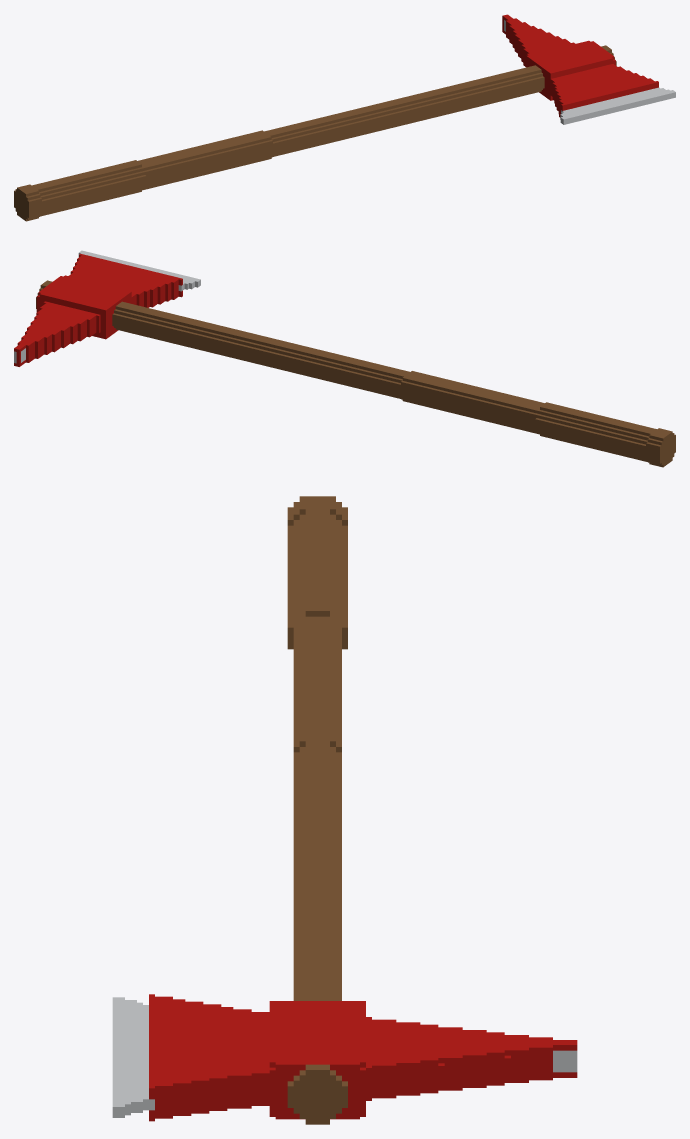
The model's file is fire_ax.glb.
3 views of the same model, one above another, from view 1: azimuth 30°, elevation 25°; view 2: azimuth 150°, elevation 25°; view 3: azimuth 270°, elevation 25° (orthographic). The views are drawn at different scales.
Visible parts, largest first — view 1: fire_ax:compound; view 2: fire_ax:compound; view 3: fire_ax:compound.
Boxes of the visible parts, x1,y1,x2,y2 form: fire_ax:compound: (14, 14, 675, 221); fire_ax:compound: (14, 250, 675, 467); fire_ax:compound: (112, 496, 577, 1124).
Bounding box in the file's own units: 0.924 × 0.04 × 0.308.
